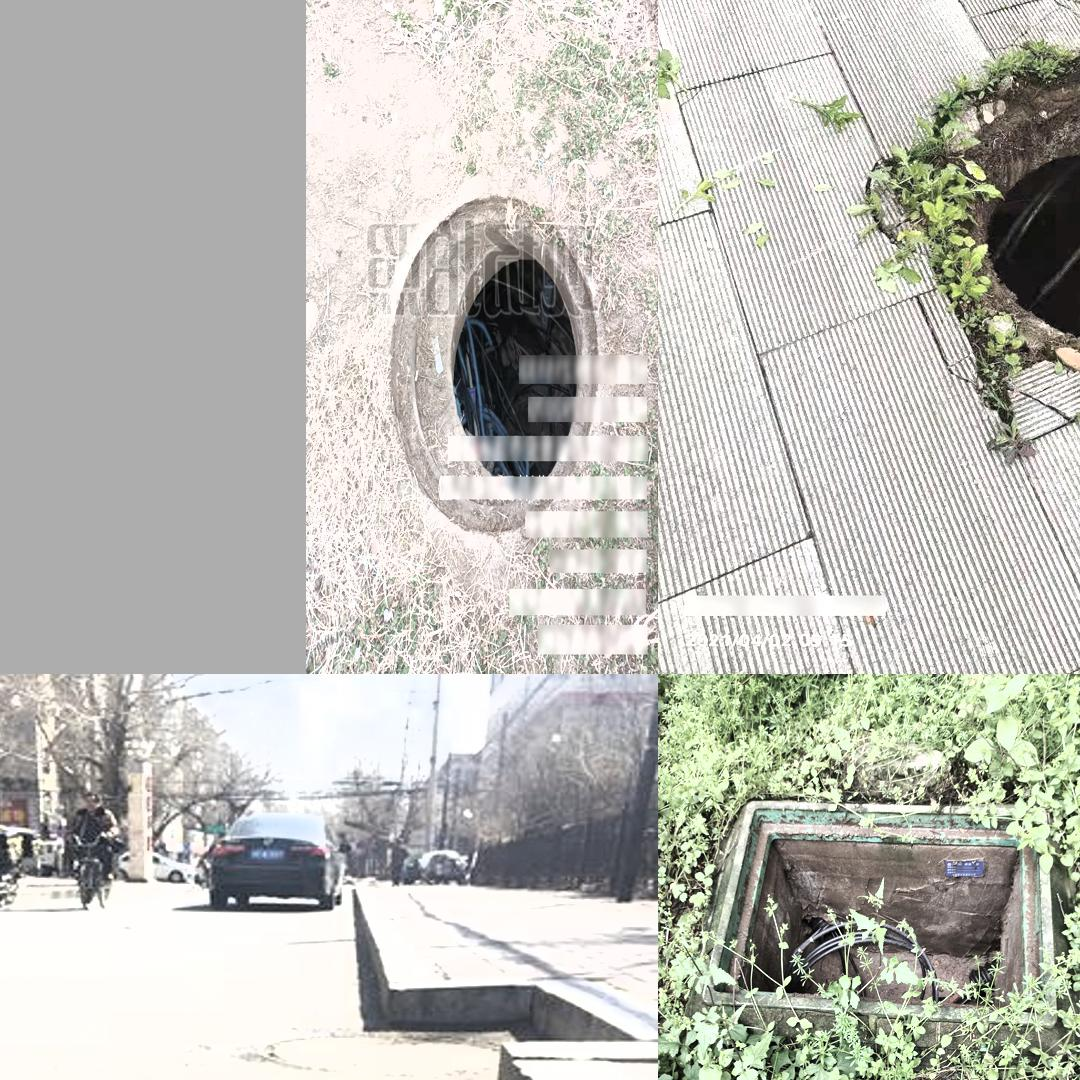lose: (699, 783, 1053, 1022), (369, 191, 609, 531), (931, 64, 1080, 381)
